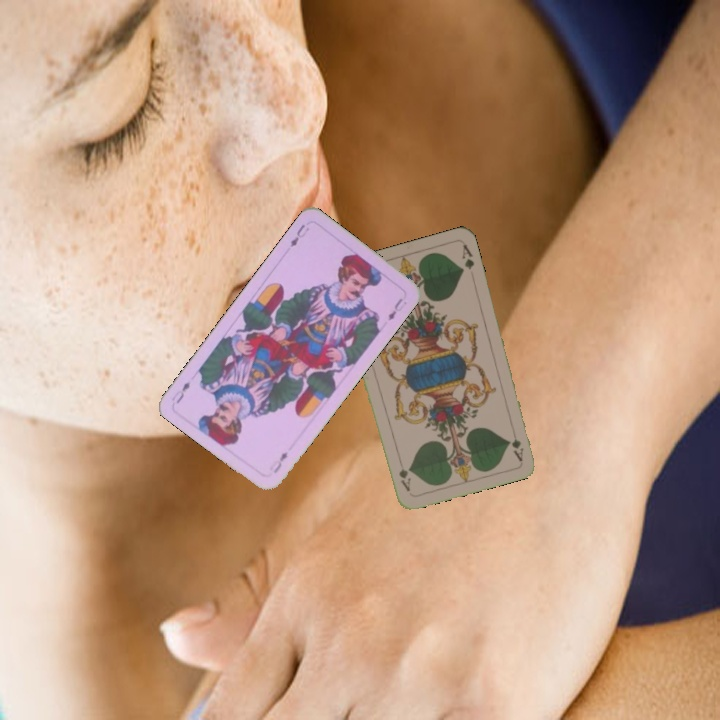EU: (286, 220, 312, 250), (265, 447, 291, 476)
GA: (507, 423, 526, 463)
